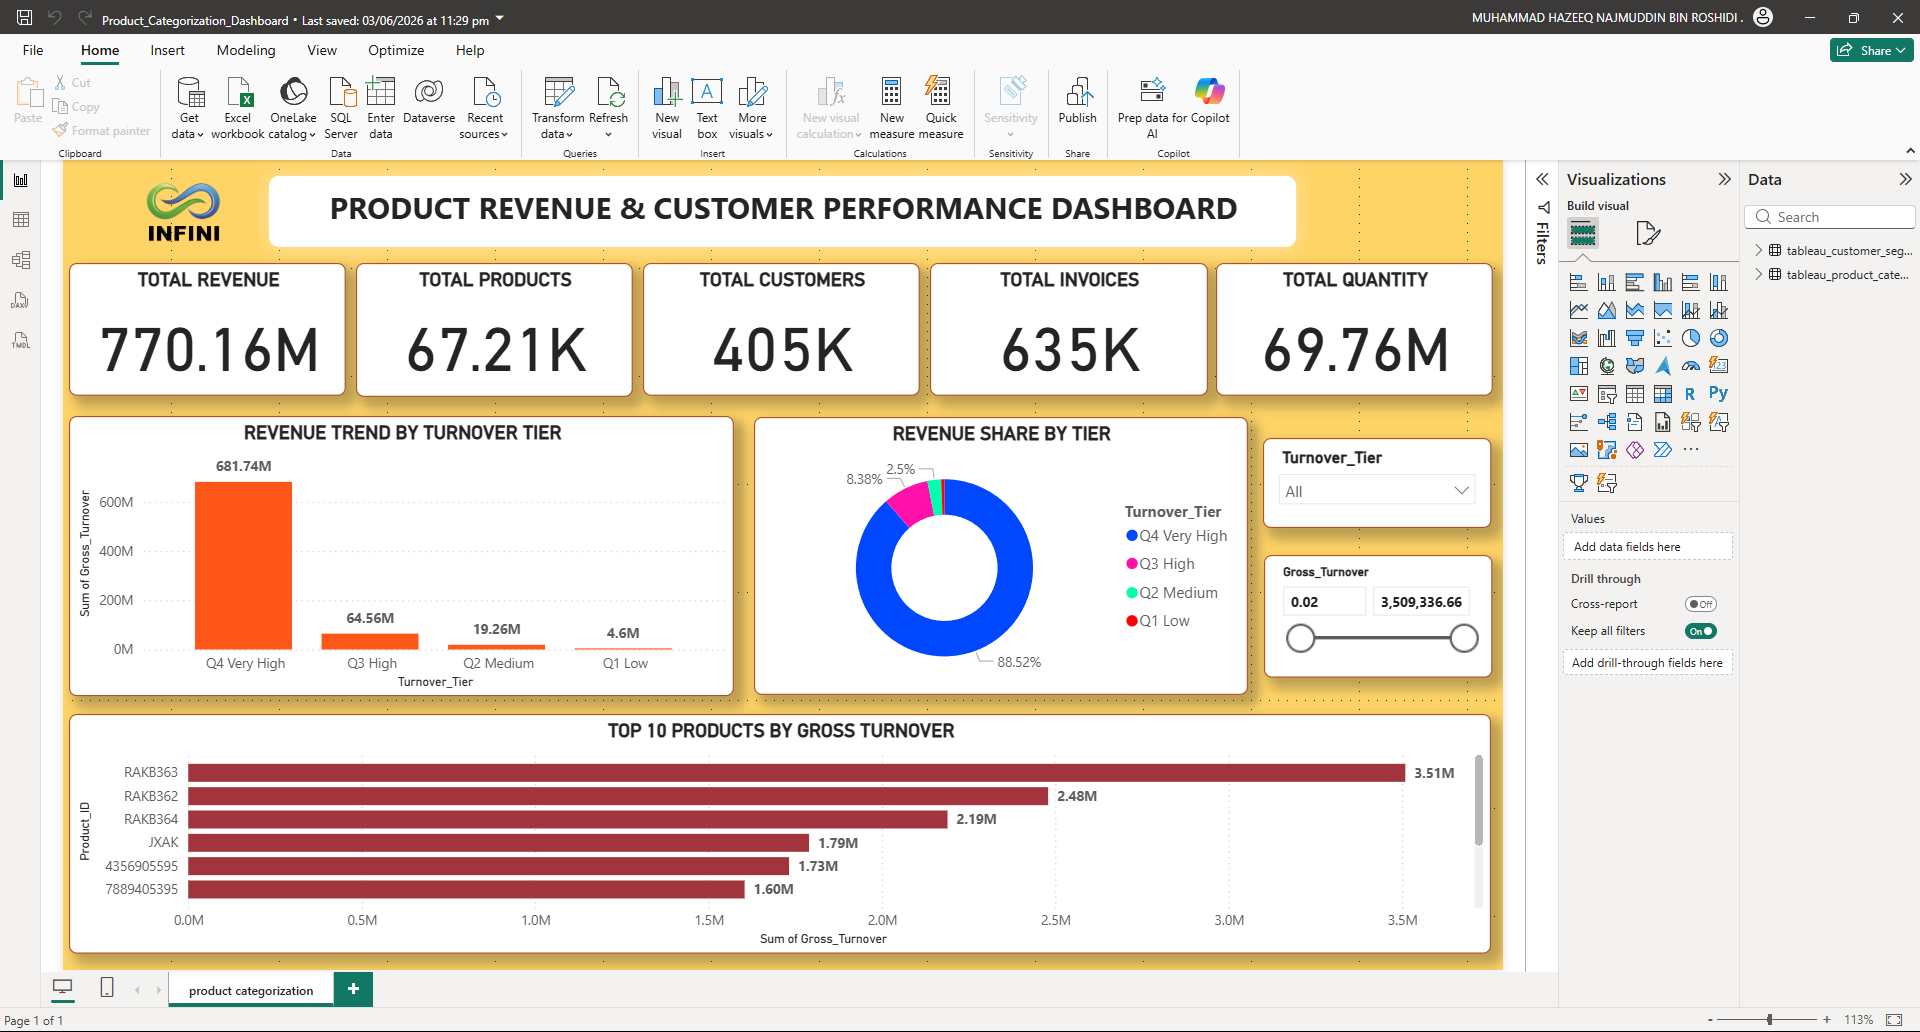

The dashboard page shown, as its layout file describes it:
{"tool":"powerbi","page":{"name":"product categorization","canvas":[1280,720],"ordinal":0},"visuals":[{"type":"card","title":"TOTAL REVENUE","fields":{"Values":["Sum(tableau_product_categorization.Gross_Turnover)"]},"box":[5.3,91.2,246.5,118.2],"z":0},{"type":"card","title":"TOTAL PRODUCTS","fields":{"Values":["Count(tableau_product_categorization.Product_ID)"]},"box":[260.4,91.3,246.1,119.1],"z":1000},{"type":"card","title":"TOTAL CUSTOMERS","fields":{"Values":["Sum(tableau_product_categorization.Main_account_count)"]},"box":[515.2,91.7,246.1,118.3],"z":2000},{"type":"card","title":"TOTAL INVOICES","fields":{"Values":["Sum(tableau_product_categorization.Invoice_count)"]},"box":[770.4,91.3,246.5,118.3],"z":3000},{"type":"card","title":"TOTAL QUANTITY","fields":{"Values":["Sum(tableau_product_categorization.Quantity)"]},"box":[1024.4,91.7,246.1,118.3],"z":4000},{"type":"clusteredColumnChart","title":"REVENUE TREND BY TURNOVER TIER","fields":{"Category":["tableau_product_categorization.Turnover_Tier"],"Y":["Sum(tableau_product_categorization.Gross_Turnover)"]},"box":[5.7,227.1,591.4,248.6],"z":5000},{"type":"clusteredBarChart","title":"TOP 10 PRODUCTS BY GROSS TURNOVER","fields":{"Category":["tableau_product_categorization.Product_ID"],"Y":["Sum(tableau_product_categorization.Gross_Turnover)"]},"box":[5.7,492.9,1264.3,212.9],"z":6000},{"type":"donutChart","title":"REVENUE SHARE BY TIER","fields":{"Category":["tableau_product_categorization.Turnover_Tier"],"Y":["Sum(tableau_product_categorization.Gross_Turnover)"]},"box":[614.3,228.6,438.6,247.1],"z":7000},{"type":"slicer","fields":{"Values":["tableau_product_categorization.Turnover_Tier"]},"box":[1066.7,246.7,203.3,80],"z":8000},{"type":"slicer","fields":{"Values":["tableau_product_categorization.Gross_Turnover"]},"box":[1067.1,351.4,202.9,108.6],"z":9000},{"type":"textbox","box":[182.9,14.3,912.9,62.9],"z":10000},{"type":"image","box":[54.3,0,105.7,91.4],"z":11000}]}

Visuals, with their boxes on the page's 1280x720 design canvas (x1, y1, x2, y2). These are canvas units, not pixel positions in the 1920x1032 screenshot, which may show the page scaled, cropped or inside an application window:
"TOTAL REVENUE" card: 5:91:252:209
"TOTAL PRODUCTS" card: 260:91:506:210
"TOTAL CUSTOMERS" card: 515:92:761:210
"TOTAL INVOICES" card: 770:91:1017:210
"TOTAL QUANTITY" card: 1024:92:1270:210
"REVENUE TREND BY TURNOVER TIER" clusteredColumnChart: 6:227:597:476
"TOP 10 PRODUCTS BY GROSS TURNOVER" clusteredBarChart: 6:493:1270:706
"REVENUE SHARE BY TIER" donutChart: 614:229:1053:476
slicer - tableau_product_categorization.Turnover_Tier: 1067:247:1270:327
slicer - tableau_product_categorization.Gross_Turnover: 1067:351:1270:460
textbox: 183:14:1096:77
image: 54:0:160:91
